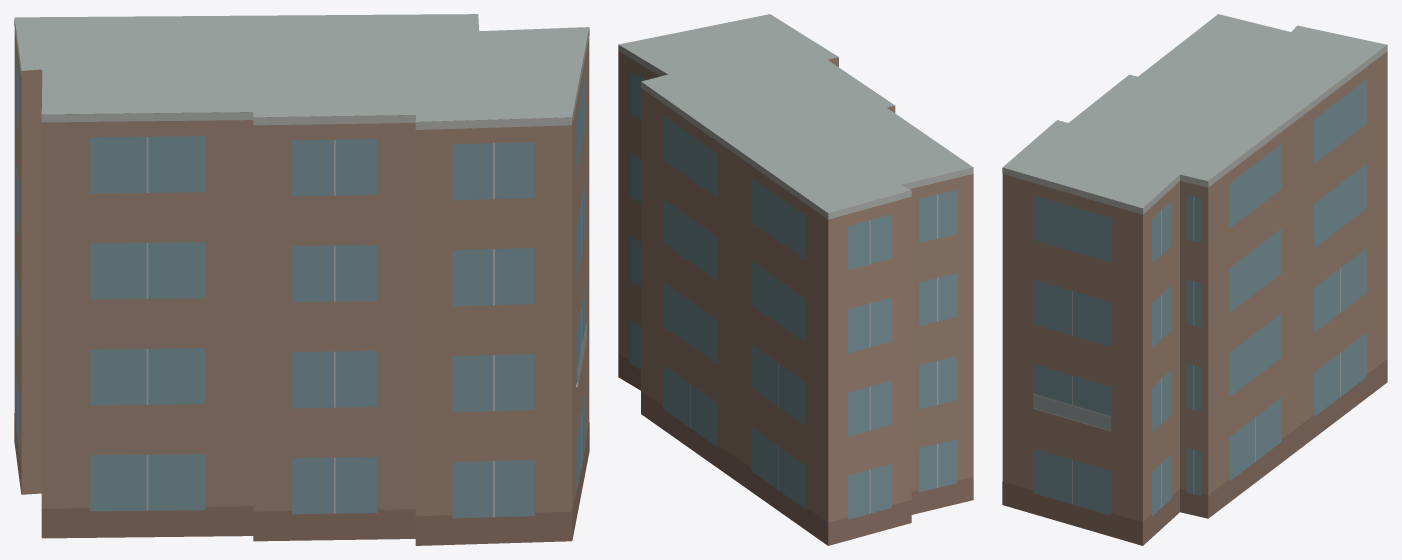
File: survey-upis-33037156.glb
The picture shows the model from 3 angles, left to right: view 1: azimuth 30°, elevation 25°; view 2: azimuth 150°, elevation 25°; view 3: azimuth 270°, elevation 25°; orthographic projection. The views are drawn at different scales.
Parts seen in each view (by area): view 1: survey-upis-33037156.tmp; view 2: survey-upis-33037156.tmp; view 3: survey-upis-33037156.tmp.
Part boxes in pixels (left/top/right/bottom): survey-upis-33037156.tmp: left=14, top=14, right=589, bottom=545; survey-upis-33037156.tmp: left=618, top=14, right=973, bottom=545; survey-upis-33037156.tmp: left=1002, top=14, right=1387, bottom=545.
Bounding box in the file's own units: 15.82 × 12.8 × 13.24.
